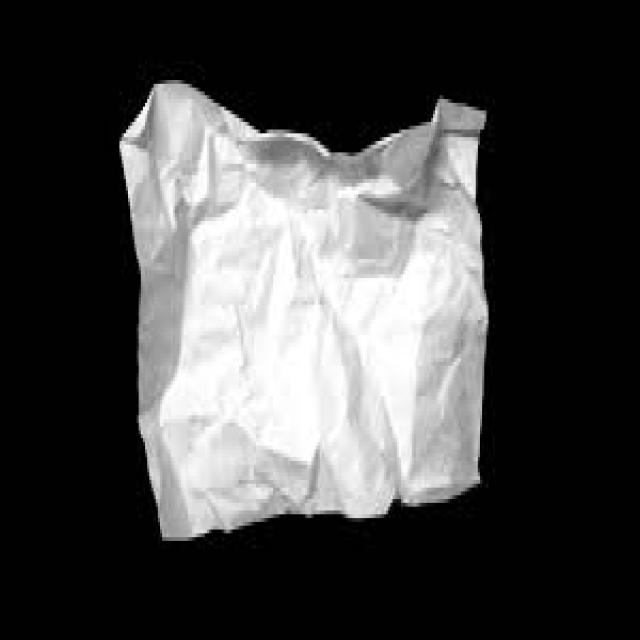Paper -Biodegradable-: (120, 82, 486, 552)
